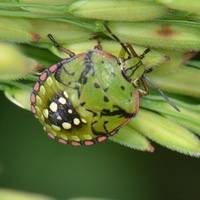insect: (30, 24, 179, 145)
